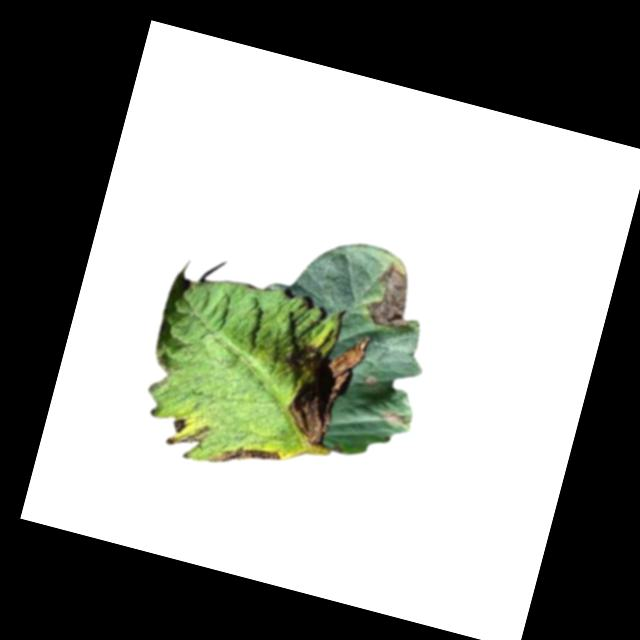Early_blight: (264, 320, 371, 451), (362, 260, 424, 335), (206, 433, 282, 482), (169, 413, 189, 436)
